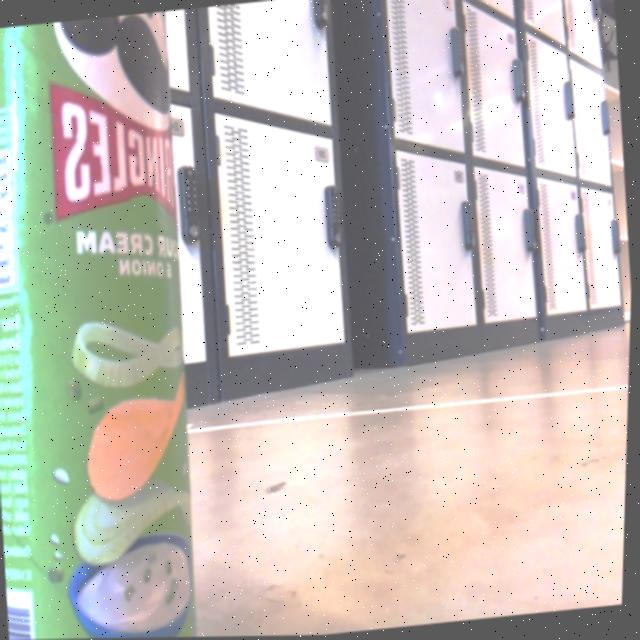greenpringles: (0, 6, 251, 640)
